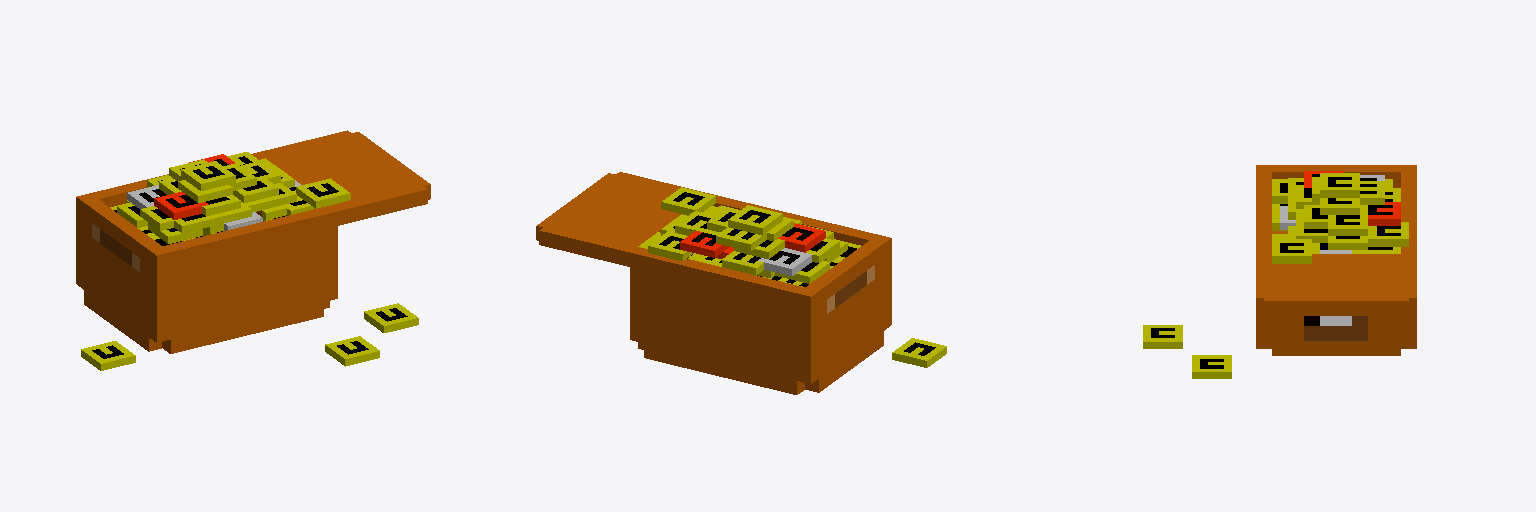
The picture shows the model from 3 angles: view 1: azimuth 30°, elevation 25°; view 2: azimuth 150°, elevation 25°; view 3: azimuth 270°, elevation 25°; orthographic projection.
Size of the model in its own units: 48 by 18 by 34.
Materials: 1 (1 with a texture image).